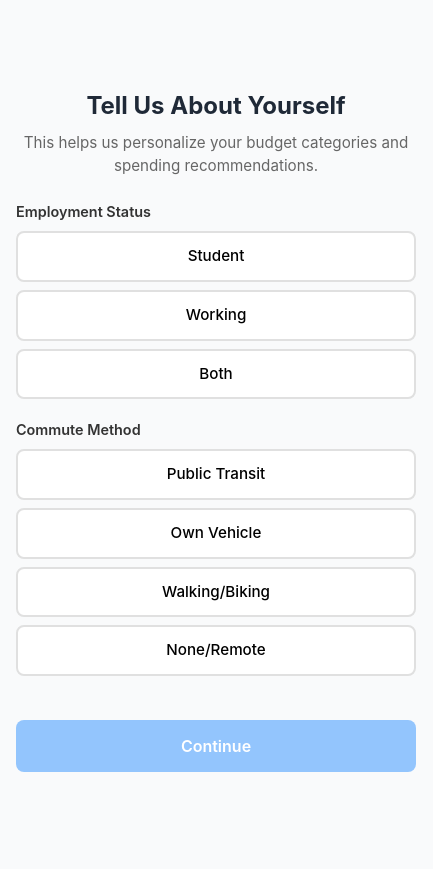
Test: Onboarding Flow End-to-End › new user → select country → fill profile → dashboard › shows vehicle type field when own_vehicle is selected during profile onboarding
Check: the heading "Tell Us About Yourself" is shown, box [86,88,346,124]
Note: Select employment status
Click the button "Student".
click(216, 256)  # box [16,231,416,282]
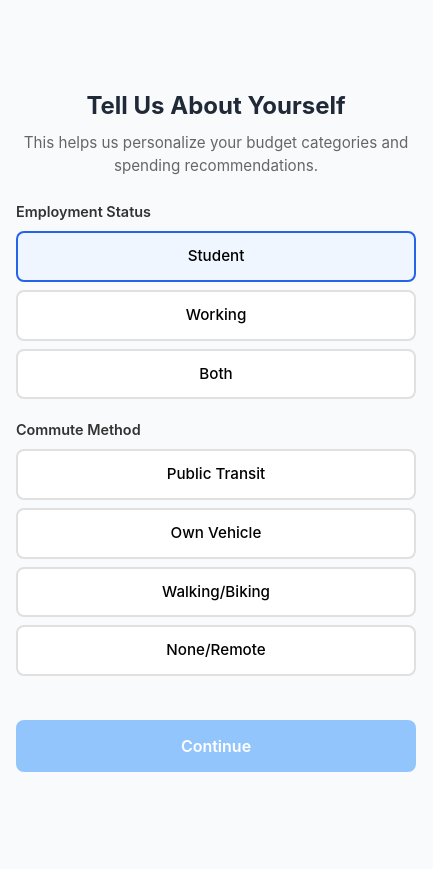
Note: Select commute method - own vehicle
Click the button "Own Vehicle".
click(216, 533)  # box [16,508,416,559]
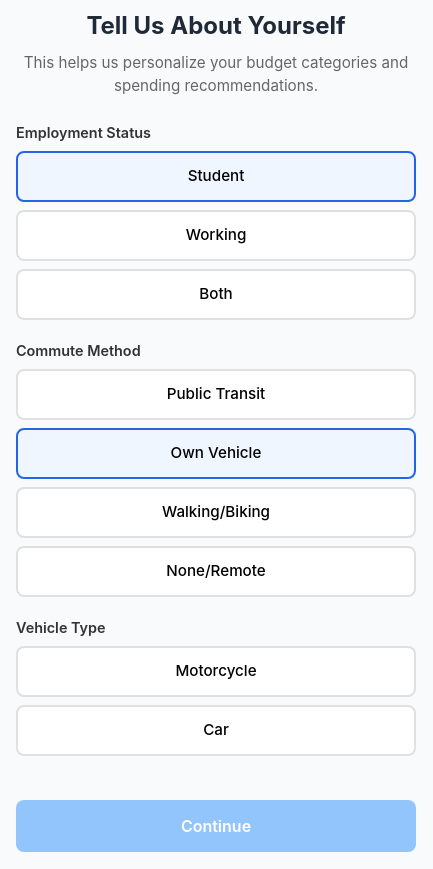
Check: the text "Vehicle Type" is shown, box [16,617,106,638]
Check: the button "Motorcycle" is shown, box [16,646,416,697]
Check: the button "Car" is shown
Note: Select vehicle type
Click the button "Car".
click(216, 730)  # box [16,705,416,756]
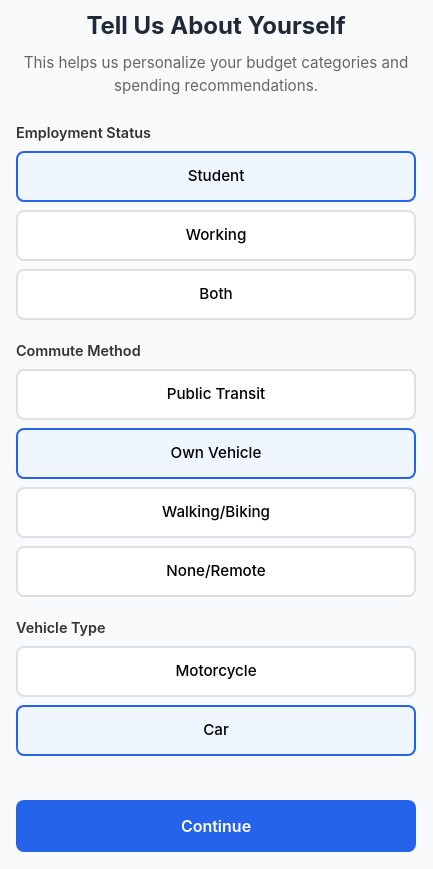
Check: the button "Continue" is enabled, box [16,800,416,852]
